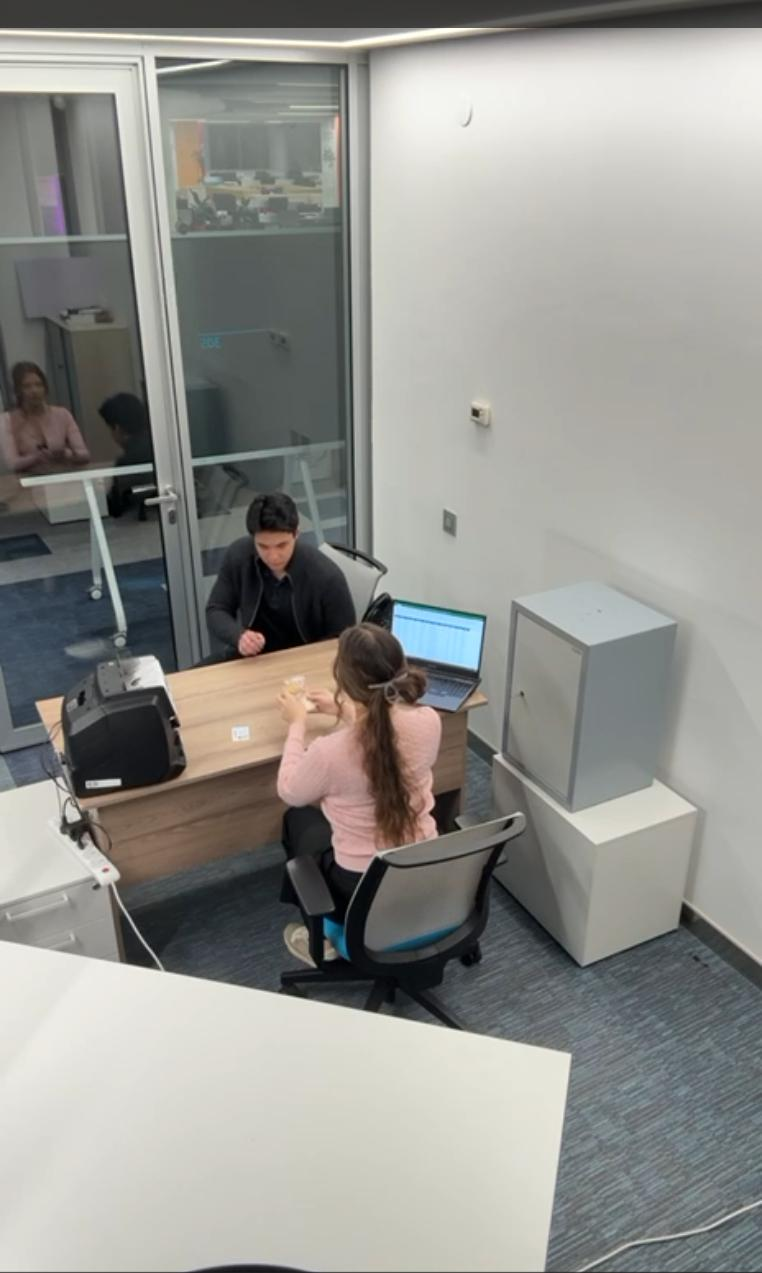cash_stack: (280, 671, 320, 718)
counter: (63, 670, 182, 788)
key_in: (512, 679, 534, 722)
screen_on: (390, 617, 481, 669)
